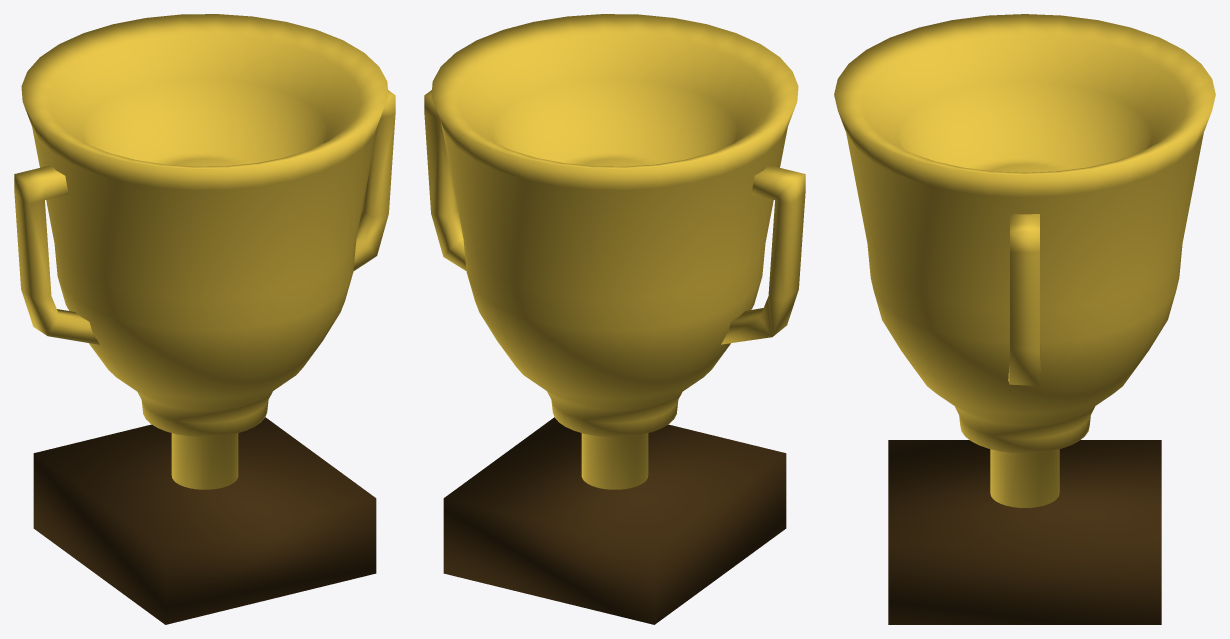
The model's file is trophy.fbx.
3 views of the same model, side by side, from view 1: azimuth 30°, elevation 25°; view 2: azimuth 150°, elevation 25°; view 3: azimuth 270°, elevation 25° (orthographic). The views are drawn at different scales.
Parts seen in each view (by area): view 1: Sphere, Sphere.001; view 2: Sphere, Sphere.001; view 3: Sphere, Sphere.001.
Part boxes in pixels (box(x1,y1,x2,y2)): Sphere: box(14, 14, 395, 489); Sphere.001: box(33, 417, 376, 624); Sphere: box(424, 14, 805, 489); Sphere.001: box(443, 417, 786, 624); Sphere: box(834, 14, 1215, 507); Sphere.001: box(888, 440, 1161, 624).
Size of the model in its own units: 124 by 148 by 108.
